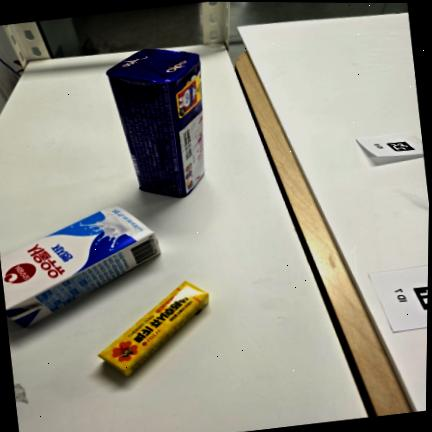cracker_ace: (106, 49, 204, 197)
gum_yellow: (98, 282, 208, 375)
milk_blue: (0, 204, 160, 326)
